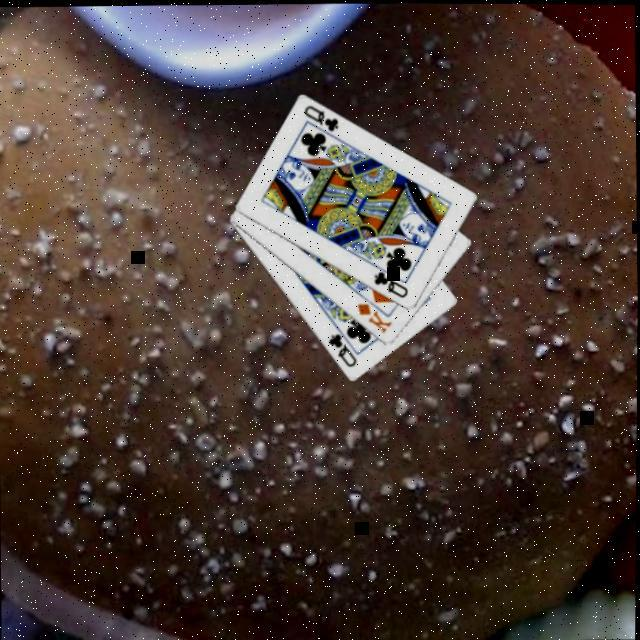KD: (352, 296, 394, 334)
QC: (324, 328, 359, 368), (300, 99, 341, 132), (370, 266, 410, 298)
